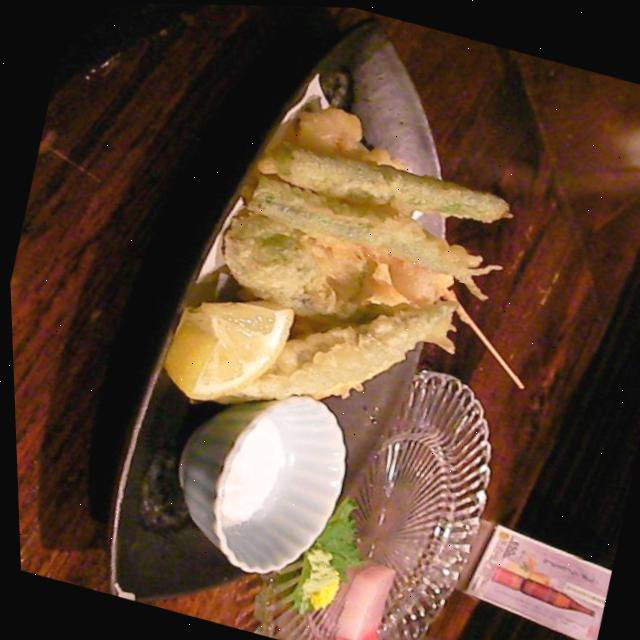蔬菜料理: (83, 8, 592, 493)
